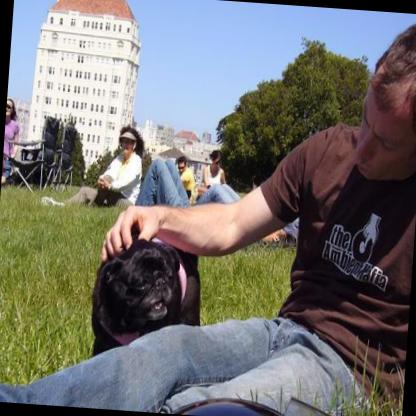pug: (86, 235, 204, 359)
